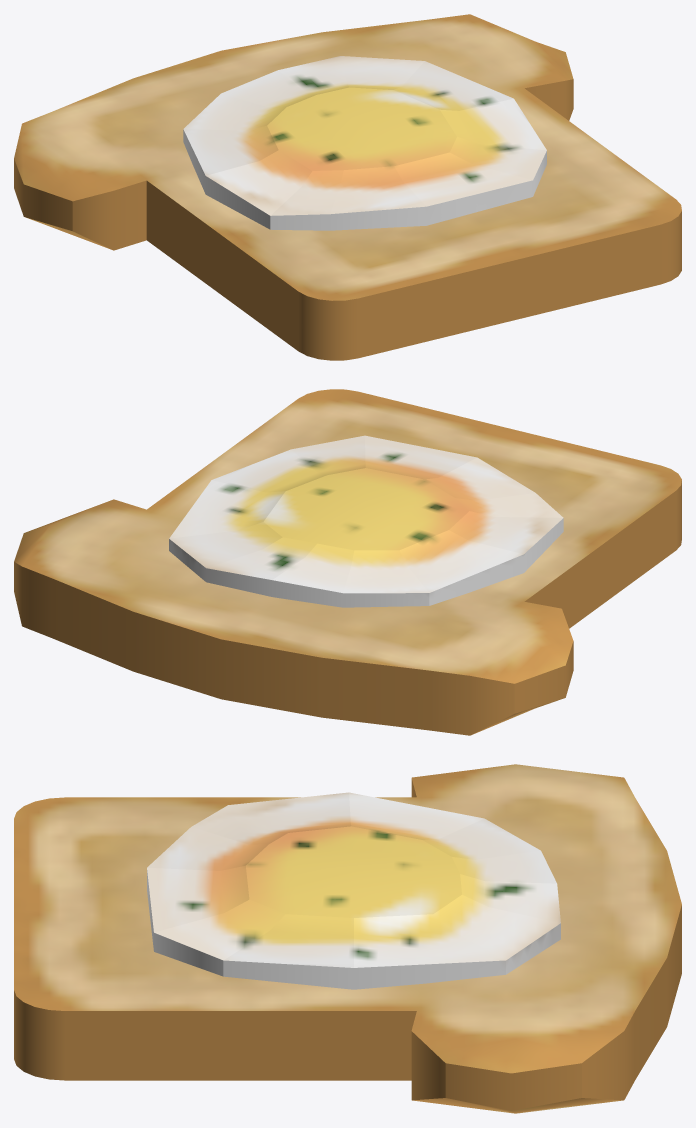
Rendered from eggtoastplease.fbx.
The picture shows the model from 3 angles, top to bottom: view 1: azimuth 30°, elevation 25°; view 2: azimuth 150°, elevation 25°; view 3: azimuth 270°, elevation 25°; orthographic projection. The views are drawn at different scales.
Parts seen in each view (by area): view 1: pCube1, pCube2; view 2: pCube1, pCube2; view 3: pCube1, pCube2.
Boxes of the visible parts, x1,y1,x2,y2 form: pCube1: (14,14,681,360); pCube2: (183,56,546,230); pCube1: (14,389,681,735); pCube2: (169,435,563,607); pCube1: (14,764,681,1113); pCube2: (147,792,560,989).
Size of the model in its own units: 5.14 by 0.8345 by 4.73.
